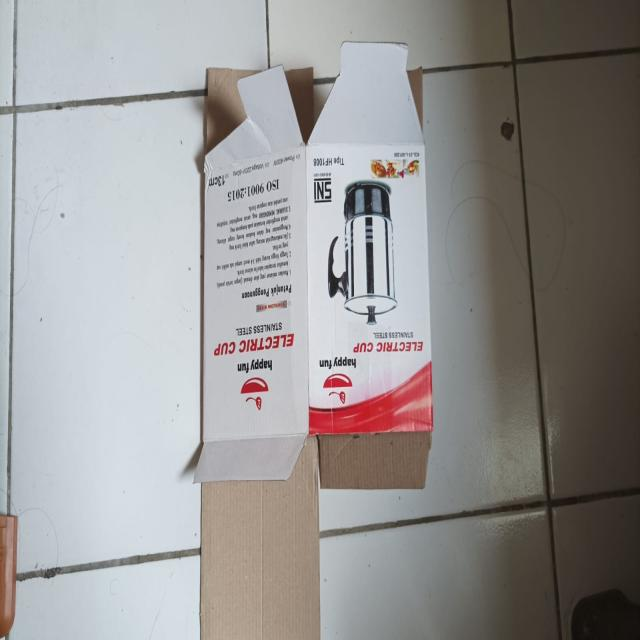Organik: (194, 45, 432, 640)
